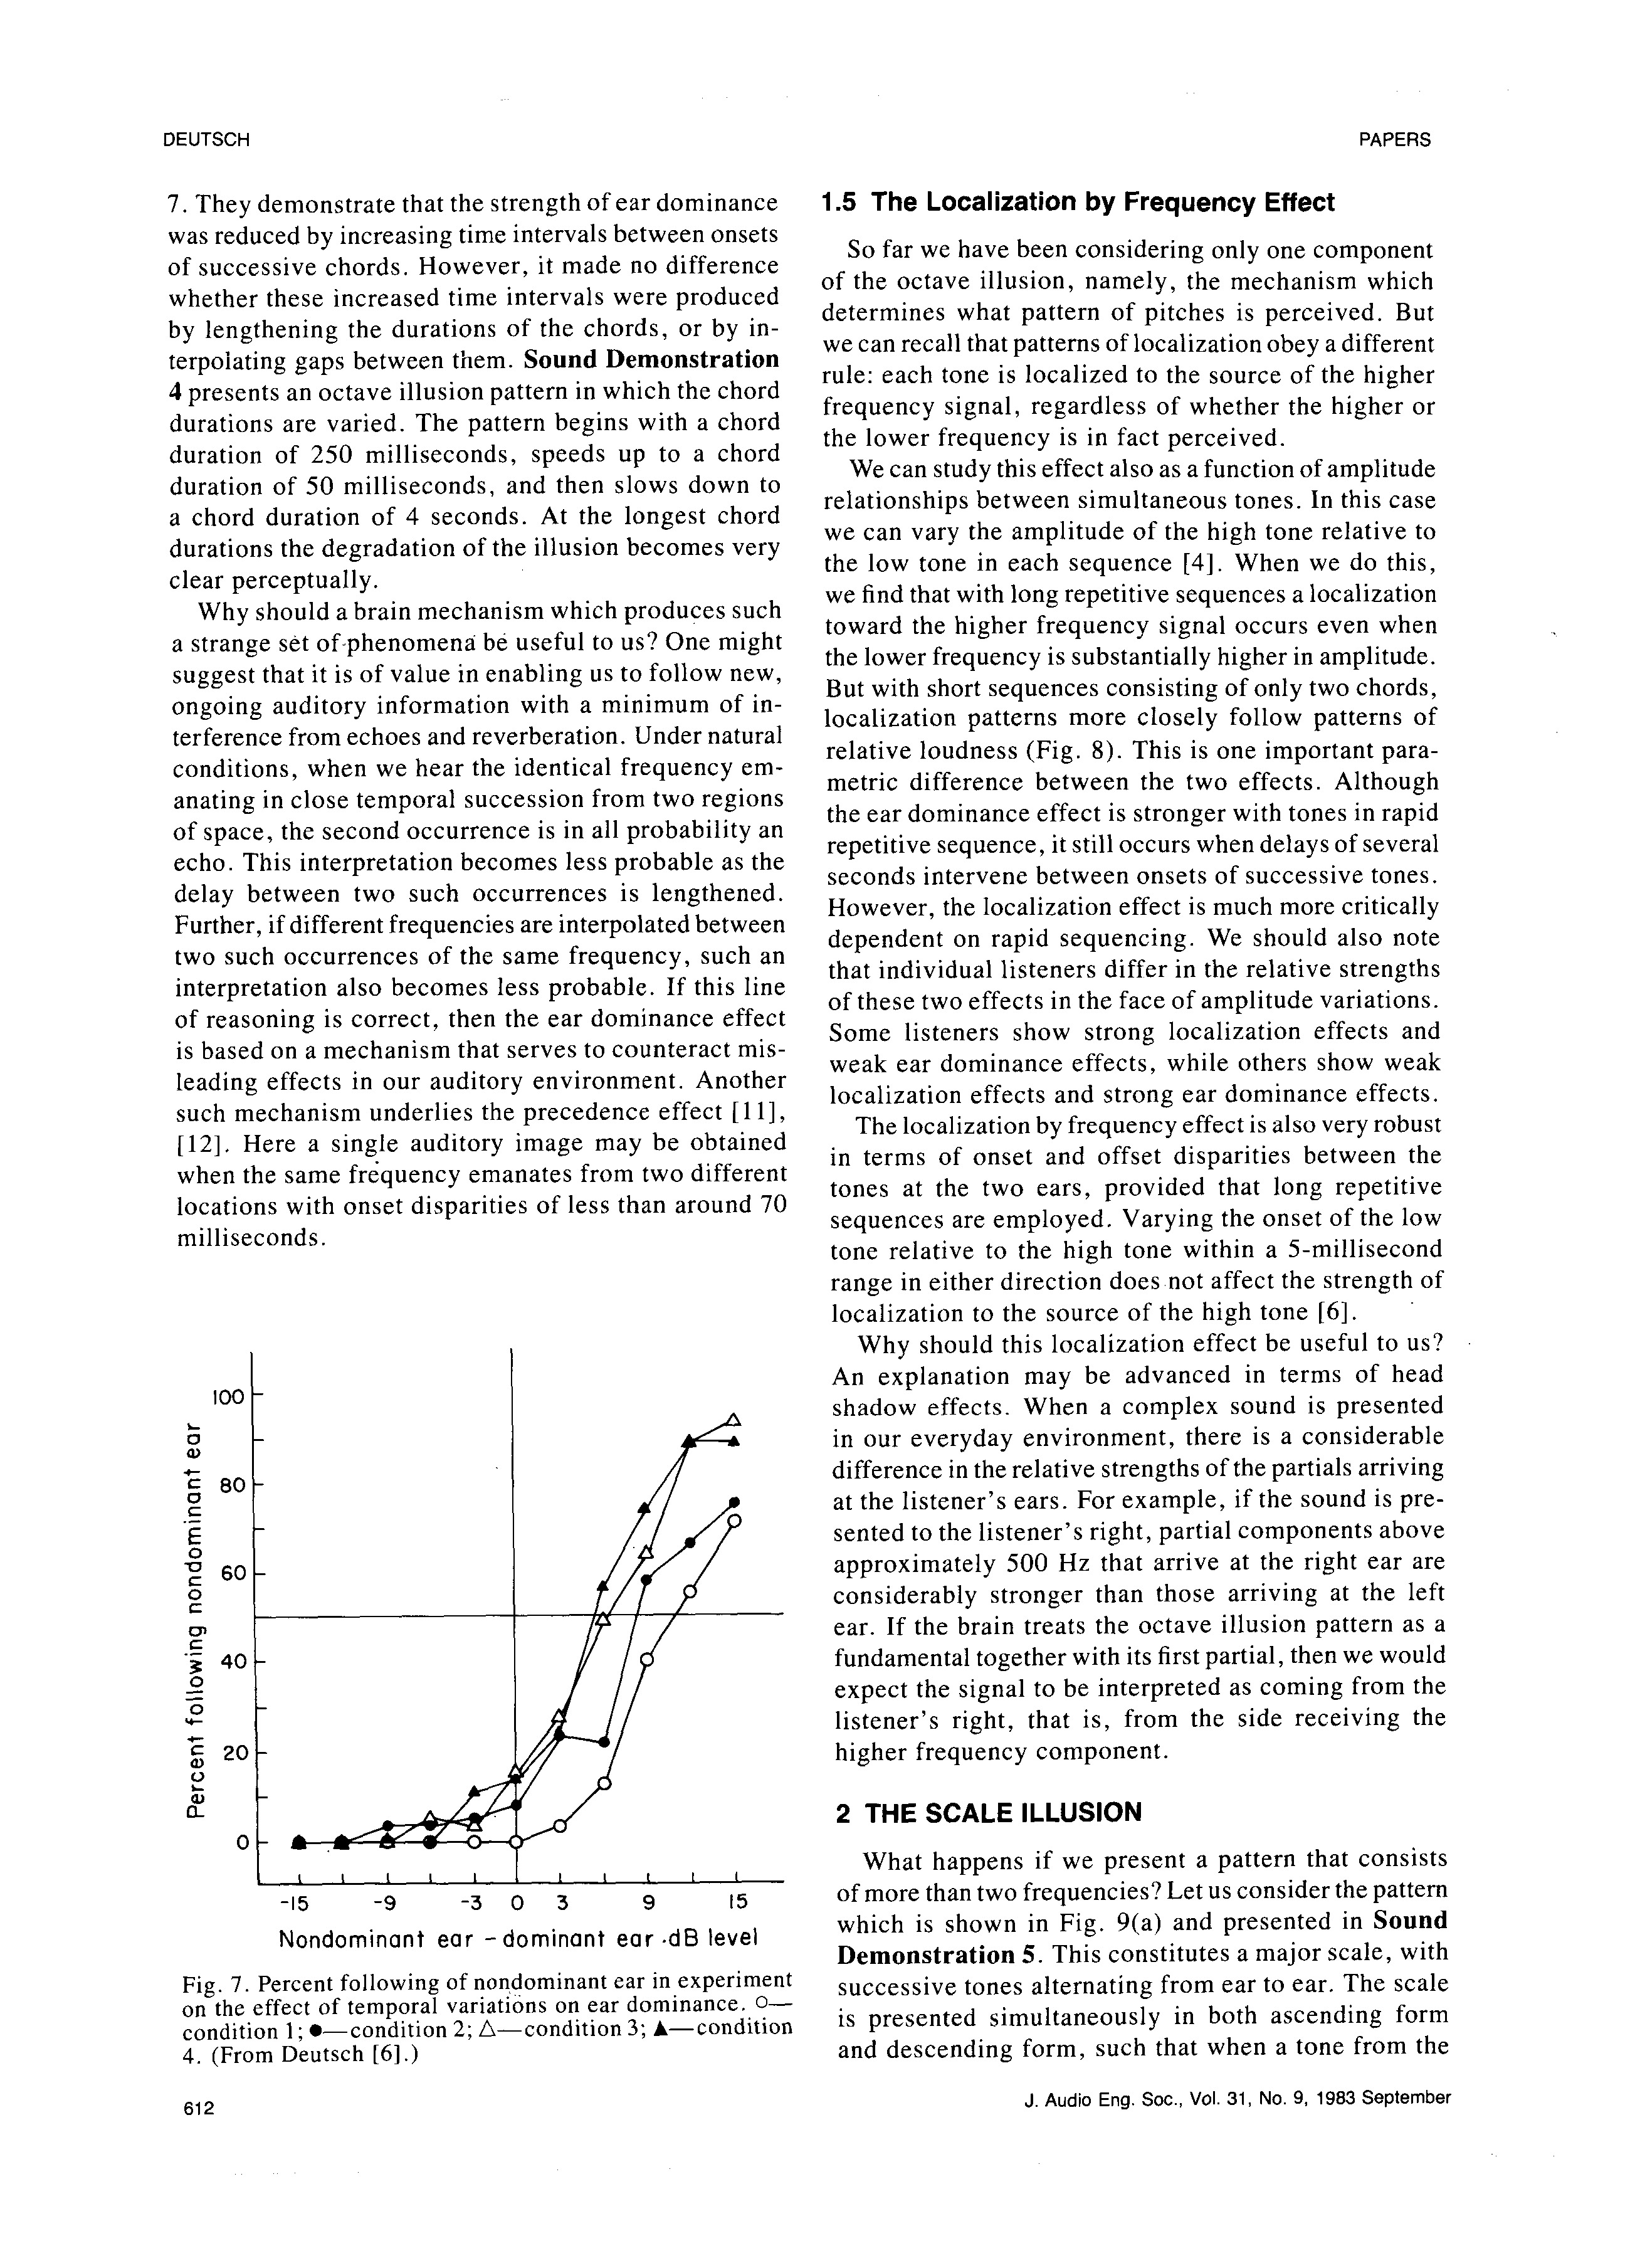caption: (176, 1967, 803, 2092)
figure: (143, 1349, 792, 1974)
section: (810, 169, 1355, 231), (820, 1787, 1172, 1837)
text: (822, 477, 1466, 1321), (172, 600, 792, 1259), (832, 1324, 1463, 1770), (148, 180, 778, 567), (829, 1838, 1480, 2074), (829, 236, 1445, 467)
